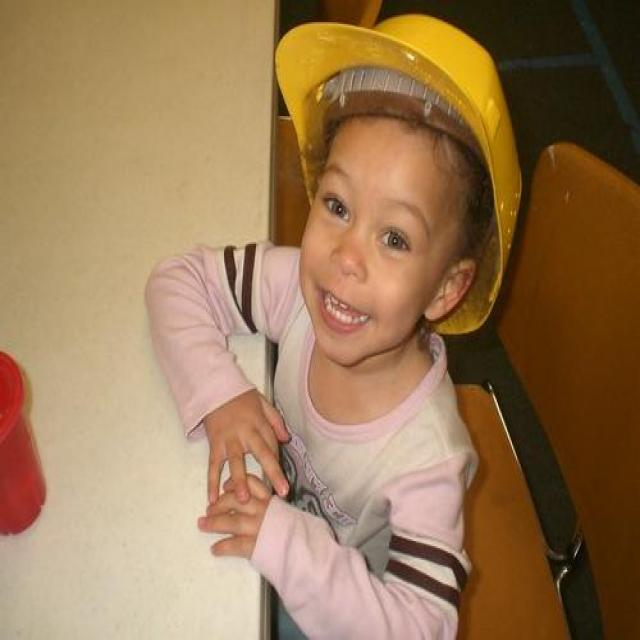Safety-Helmet: (264, 0, 536, 319)
